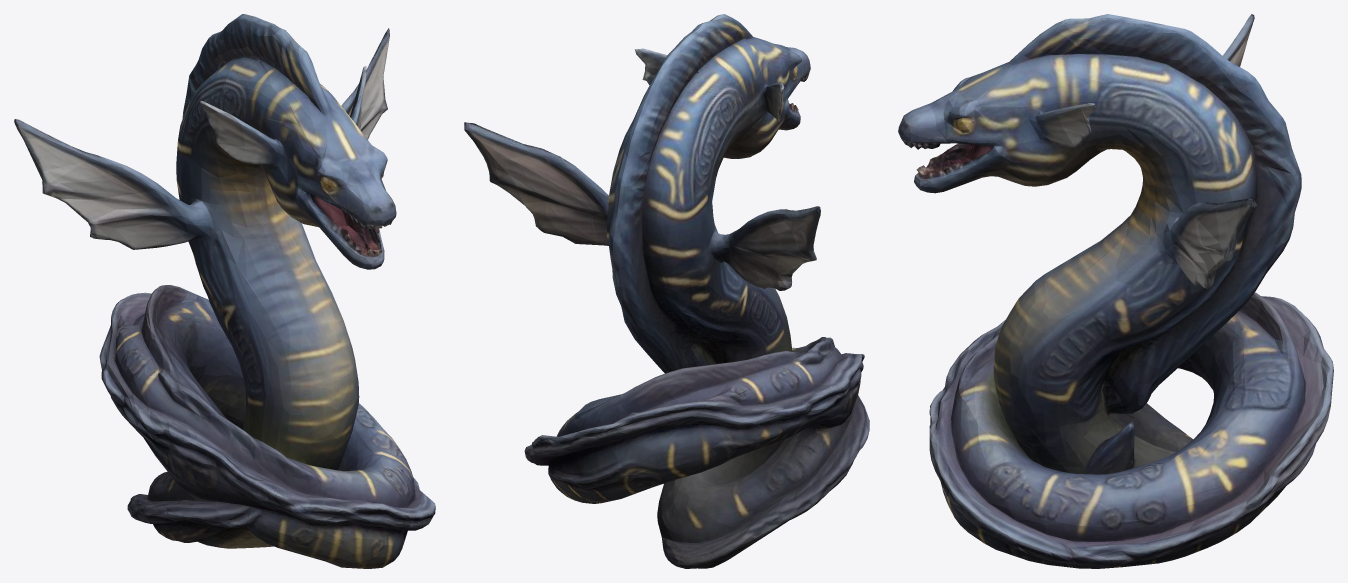
File: skyEel.glb
3 views of the same model, side by side, from view 1: azimuth 30°, elevation 25°; view 2: azimuth 150°, elevation 25°; view 3: azimuth 270°, elevation 25° (orthographic). The views are drawn at different scales.
Visible parts, largest first — view 1: world; view 2: world; view 3: world.
Boxes of the visible parts, <box> form: world: <box>14,14,435,568</box>; world: <box>464,14,869,568</box>; world: <box>898,14,1333,568</box>.
Size of the model in its own units: 0.7191 by 0.9735 by 0.7153.
1 material, 1 textured.
